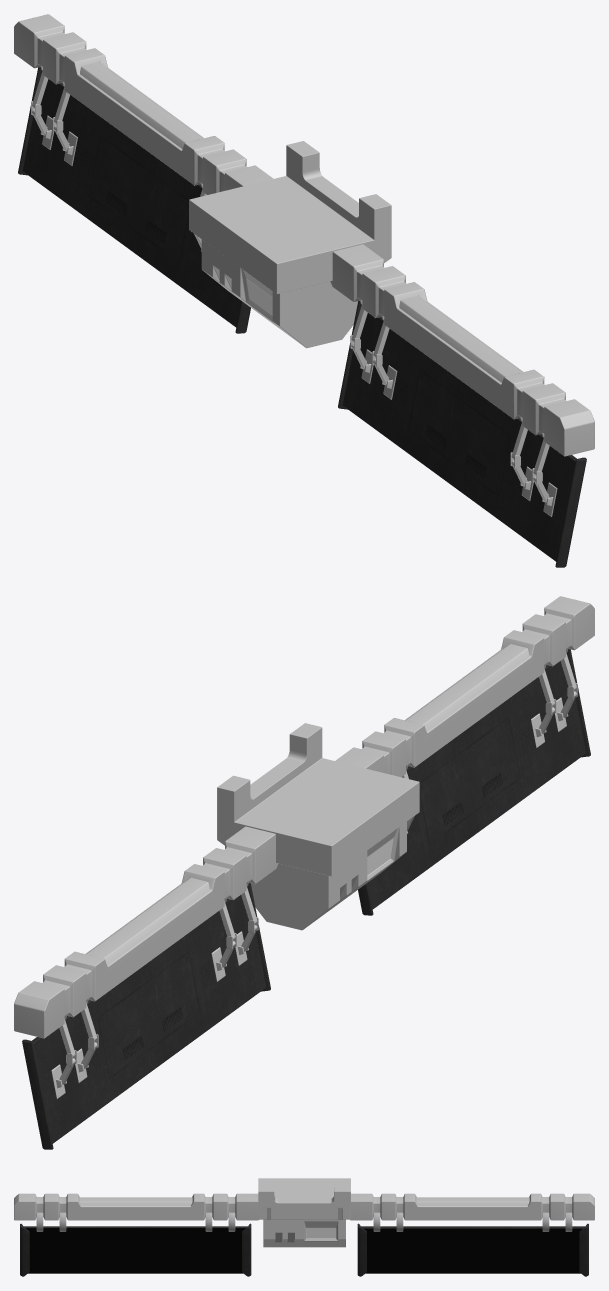
Rendered from Screen_7.fbx.
3 views of the same model, one above another, from view 1: azimuth 30°, elevation 25°; view 2: azimuth 150°, elevation 25°; view 3: azimuth 270°, elevation 25° (orthographic). The views are drawn at different scales.
Visible parts, largest first — view 1: Cube.066, Cube.041, Cube.034; view 2: Cube.066, Cube.034, Cube.041; view 3: Cube.066, Cube.034, Cube.041.
Part boxes in pixels (x1,y1,x2,y2): Cube.066: [14, 14, 594, 516]; Cube.041: [338, 301, 586, 567]; Cube.034: [18, 67, 250, 333]; Cube.066: [14, 596, 594, 1098]; Cube.034: [22, 883, 270, 1149]; Cube.041: [358, 649, 590, 915]; Cube.066: [14, 1178, 594, 1247]; Cube.034: [357, 1223, 588, 1276]; Cube.041: [20, 1223, 251, 1276].
Bounding box in the file's own units: 117 × 181 × 972.
